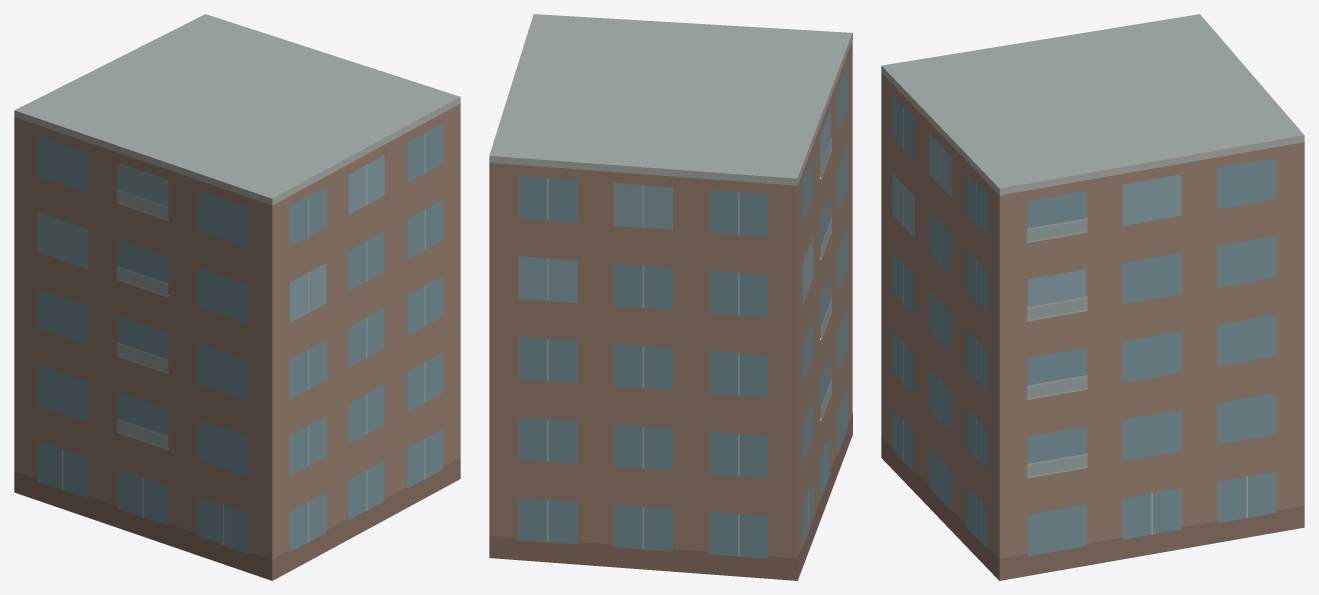
Rendered from survey-upis-32855325.glb.
3 renders of one model, left to right at view 1: azimuth 30°, elevation 25°; view 2: azimuth 150°, elevation 25°; view 3: azimuth 270°, elevation 25°, orthographic. The views are drawn at different scales.
Parts seen in each view (by area): view 1: survey-upis-32855325.tmp; view 2: survey-upis-32855325.tmp; view 3: survey-upis-32855325.tmp.
Boxes of the visible parts, box(x1,y1,x2,y2) form: survey-upis-32855325.tmp: box(14, 14, 460, 580); survey-upis-32855325.tmp: box(489, 14, 852, 580); survey-upis-32855325.tmp: box(881, 14, 1304, 580).
Bounding box in the file's own units: 13.38 × 14.01 × 13.71.
